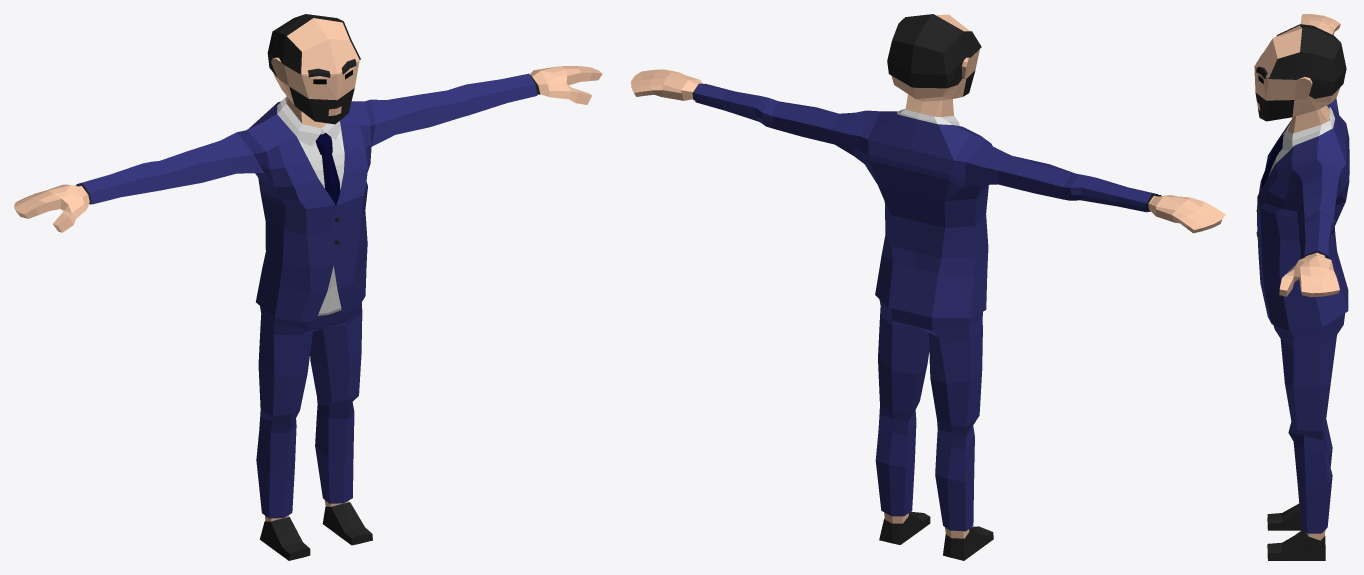
Rendered from NPC_Azul_Pastoso_Escenario2_Corbata.fbx.
3 renders of one model, left to right at view 1: azimuth 30°, elevation 25°; view 2: azimuth 150°, elevation 25°; view 3: azimuth 270°, elevation 25°, orthographic. The views are drawn at different scales.
Visible parts, largest first — view 1: Personaje; view 2: Personaje; view 3: Personaje.
Boxes of the visible parts, <box> form: Personaje: <box>14,14,602,560</box>; Personaje: <box>631,14,1225,560</box>; Personaje: <box>1254,14,1349,560</box>.
Bounding box in the file's own units: 215 × 184 × 30.94.
